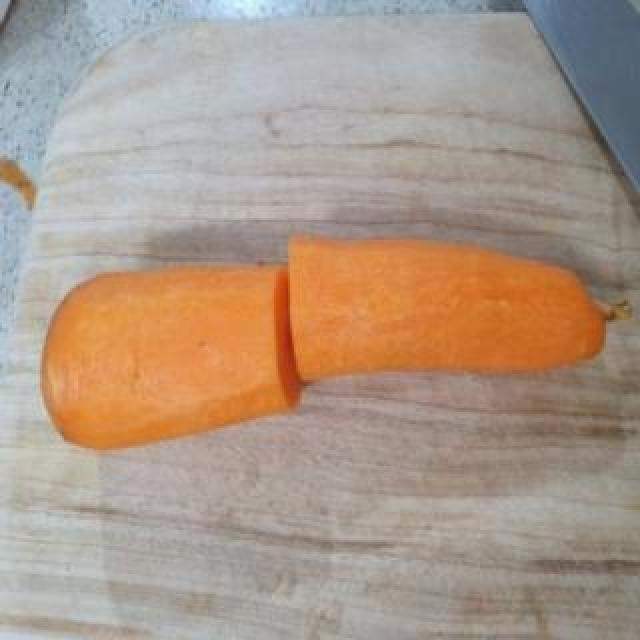Wet: (286, 228, 617, 391), (36, 262, 304, 460)
